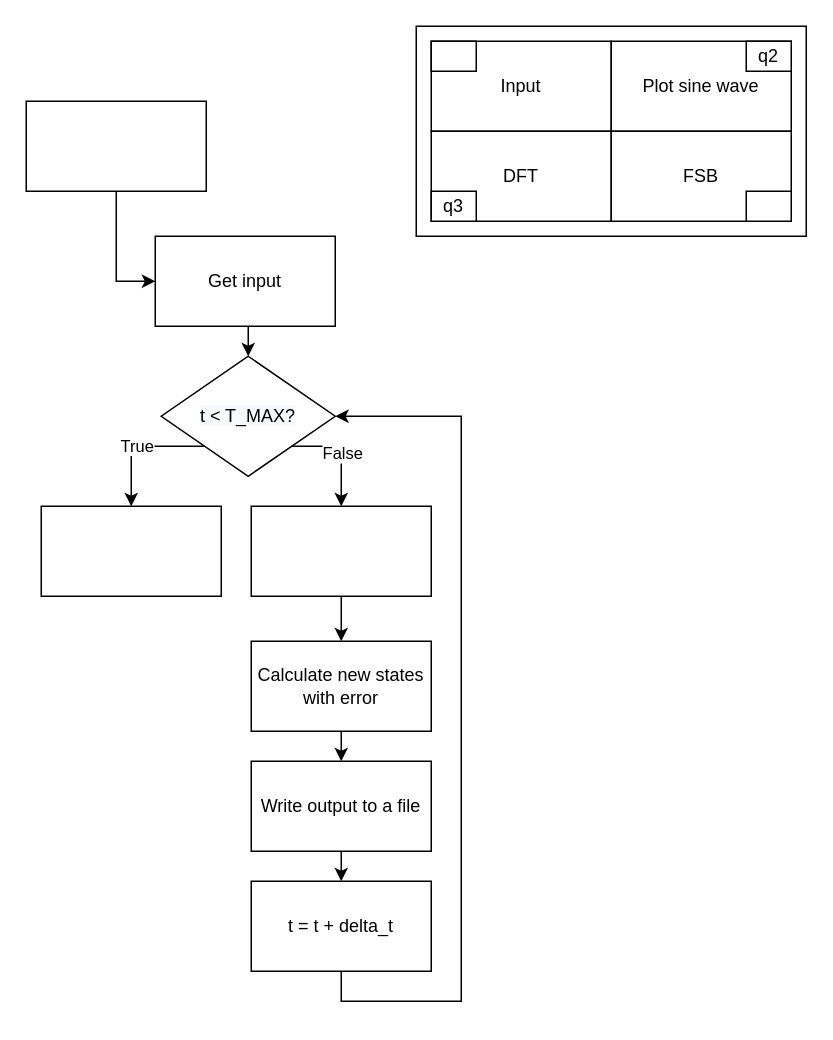
Some shapes in this 833 by 1040 pixel diagram are drawn without their labels. The centre of each missing label's shape, as x and y in pixels:
"error = input - output" goes at [340,550].
"Exit" goes at [130,550].
"Main" goes at [115,145].
"q1" goes at [453,55].
"q4" goes at [768,205].
